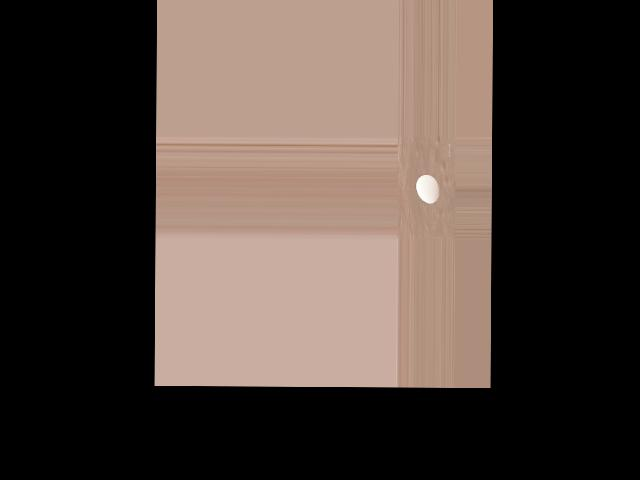egg: (416, 175, 439, 204)
